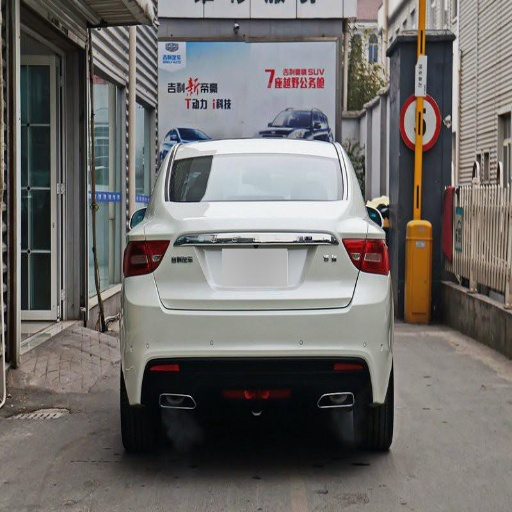back_bumper: (125, 271, 393, 410)
tailgate: (134, 197, 367, 309)
trunk: (148, 243, 246, 310)
